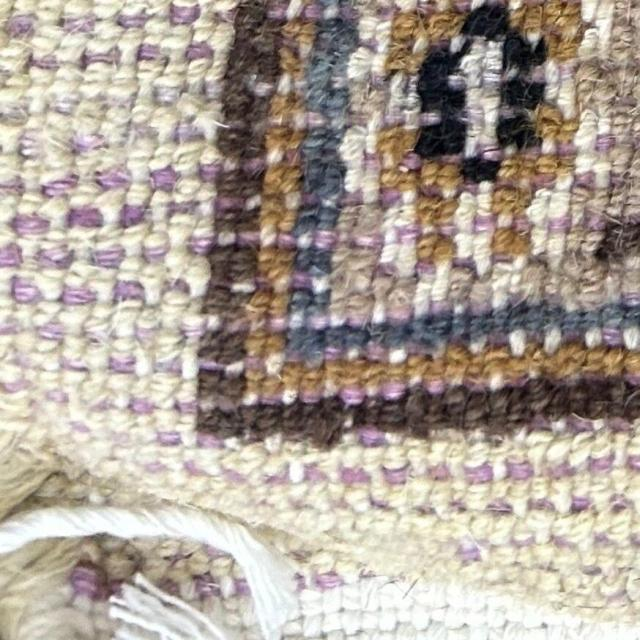Knot: (492, 218, 531, 270), (296, 246, 334, 292), (340, 461, 372, 513), (308, 160, 344, 202), (416, 230, 444, 282), (518, 256, 548, 304), (450, 256, 477, 305), (294, 506, 336, 536), (534, 139, 559, 189), (506, 454, 534, 498), (390, 69, 422, 107), (548, 172, 573, 220), (258, 246, 292, 280), (543, 1, 580, 32), (422, 8, 460, 38), (561, 327, 586, 372), (72, 561, 106, 594), (278, 44, 310, 78), (267, 288, 290, 332), (186, 42, 214, 78), (104, 550, 139, 578), (44, 390, 70, 427), (520, 2, 544, 42), (306, 290, 330, 330), (288, 328, 320, 358), (76, 100, 106, 132), (348, 46, 376, 80), (84, 50, 118, 78), (300, 364, 325, 402), (361, 428, 386, 466), (444, 345, 468, 384), (576, 107, 600, 146), (0, 514, 26, 550), (0, 72, 31, 102), (0, 453, 33, 481), (114, 620, 160, 640), (143, 226, 170, 260), (184, 254, 211, 288), (42, 172, 80, 196), (315, 204, 340, 240), (392, 12, 419, 45), (189, 223, 217, 254), (36, 244, 72, 268), (347, 293, 372, 327), (294, 210, 318, 245), (612, 143, 640, 173), (174, 140, 205, 167), (492, 272, 514, 310), (564, 617, 600, 640), (537, 102, 562, 135), (0, 120, 24, 154), (170, 0, 201, 26), (241, 146, 266, 178), (126, 584, 148, 620), (12, 276, 40, 304), (464, 460, 492, 488), (528, 498, 554, 528), (222, 453, 246, 485), (490, 510, 514, 542), (248, 279, 272, 311), (547, 386, 570, 419), (58, 439, 85, 467), (16, 212, 50, 234), (550, 480, 572, 514), (466, 592, 488, 626), (324, 324, 346, 358), (222, 360, 244, 394), (340, 434, 363, 466), (382, 460, 410, 486), (547, 434, 573, 462), (88, 312, 114, 340), (300, 582, 322, 615), (73, 132, 106, 154), (572, 433, 594, 466), (282, 362, 302, 398), (492, 460, 510, 500), (134, 538, 168, 559), (486, 354, 507, 388), (507, 386, 528, 420), (0, 44, 31, 67), (431, 485, 453, 517), (594, 599, 626, 621), (580, 280, 607, 306), (115, 280, 144, 304), (456, 191, 477, 224), (199, 150, 222, 180), (446, 579, 466, 613), (96, 166, 130, 186), (302, 0, 336, 20), (70, 208, 102, 229), (154, 82, 182, 106), (84, 342, 108, 370), (188, 547, 212, 575), (586, 390, 610, 418), (444, 385, 466, 415), (466, 390, 488, 420), (346, 326, 368, 356), (408, 477, 430, 507), (528, 192, 550, 222), (617, 68, 639, 98), (476, 199, 496, 232), (150, 106, 180, 128), (150, 143, 176, 168), (8, 14, 35, 38), (384, 435, 408, 462), (448, 440, 467, 474), (542, 324, 562, 356), (64, 284, 96, 304), (92, 246, 124, 266), (610, 416, 630, 448), (408, 440, 428, 472), (22, 444, 54, 464), (222, 594, 244, 623), (569, 387, 590, 417), (621, 236, 640, 269), (155, 352, 180, 377), (151, 166, 177, 190), (42, 194, 68, 218), (60, 32, 84, 58), (164, 280, 188, 306), (602, 575, 628, 599), (20, 132, 44, 158), (194, 574, 220, 598), (554, 540, 578, 566), (264, 460, 288, 486), (562, 246, 582, 277), (366, 365, 386, 396), (528, 379, 550, 407), (488, 594, 506, 628), (360, 577, 378, 611), (560, 278, 579, 310), (590, 450, 614, 475), (38, 274, 62, 299), (342, 580, 362, 610), (466, 440, 490, 465), (118, 10, 148, 30), (168, 220, 192, 245), (430, 460, 450, 490), (556, 510, 579, 536), (380, 399, 406, 422), (264, 347, 286, 374), (62, 313, 84, 340), (199, 370, 220, 398), (63, 336, 87, 360), (154, 374, 178, 398), (594, 77, 618, 101), (582, 256, 606, 280), (460, 538, 482, 564), (116, 310, 138, 336), (366, 335, 388, 361), (413, 580, 435, 606), (88, 482, 114, 504), (381, 186, 403, 212), (142, 462, 168, 484), (525, 329, 544, 359), (245, 354, 266, 381), (378, 580, 398, 608), (304, 460, 324, 488), (314, 570, 342, 590), (52, 94, 80, 114), (388, 336, 408, 364), (406, 390, 426, 418), (107, 80, 138, 98), (342, 382, 365, 406), (138, 306, 162, 329), (505, 594, 524, 623), (29, 330, 54, 352), (19, 191, 44, 213), (604, 346, 625, 372), (94, 18, 120, 39), (64, 15, 96, 32), (412, 602, 430, 632), (109, 352, 136, 372), (592, 471, 612, 498), (290, 297, 308, 327), (123, 204, 146, 227), (0, 242, 22, 266), (176, 174, 200, 196), (260, 374, 282, 398), (236, 224, 260, 246), (178, 374, 198, 400), (466, 355, 486, 381), (490, 388, 510, 414), (568, 414, 594, 434), (96, 280, 116, 306), (108, 372, 134, 392), (142, 278, 162, 304), (42, 300, 62, 326), (30, 65, 57, 84), (162, 33, 192, 50), (128, 157, 150, 180), (0, 194, 18, 222), (508, 329, 526, 357), (182, 315, 206, 336), (26, 424, 50, 445), (398, 580, 416, 608), (6, 318, 34, 336), (0, 103, 28, 121), (303, 612, 323, 637), (58, 62, 84, 81), (0, 395, 29, 412), (602, 326, 624, 348), (122, 224, 144, 246), (158, 324, 180, 346), (169, 560, 191, 582), (488, 331, 509, 354), (127, 183, 150, 204), (342, 610, 362, 634), (382, 380, 406, 400), (106, 104, 130, 124), (91, 458, 115, 478), (0, 174, 24, 194), (580, 549, 600, 573), (180, 350, 196, 380), (324, 368, 340, 398), (623, 322, 640, 350), (242, 403, 259, 431), (134, 350, 152, 376), (210, 556, 232, 577), (540, 570, 561, 592), (602, 305, 623, 327), (156, 407, 178, 428), (282, 617, 304, 638), (218, 392, 240, 413), (162, 304, 183, 326), (198, 430, 223, 448), (206, 315, 224, 340), (624, 184, 640, 212), (518, 624, 546, 640), (544, 604, 564, 626), (167, 246, 187, 268), (69, 421, 91, 441), (192, 444, 212, 466), (132, 102, 154, 122), (323, 588, 341, 612), (136, 326, 160, 344), (61, 358, 88, 374), (82, 81, 106, 99), (33, 35, 58, 52), (584, 348, 604, 369), (396, 621, 418, 640), (204, 458, 223, 480), (0, 154, 19, 176), (528, 428, 554, 444), (524, 604, 542, 627), (622, 267, 640, 290), (584, 325, 602, 348), (624, 355, 640, 380), (426, 620, 446, 640), (563, 567, 579, 592), (130, 374, 150, 394), (624, 473, 640, 498), (378, 608, 396, 630), (323, 610, 341, 632), (0, 430, 18, 452), (412, 510, 434, 528), (210, 288, 232, 306), (140, 42, 162, 60), (430, 441, 448, 463), (0, 222, 16, 246), (600, 621, 620, 640), (620, 620, 639, 640), (160, 442, 181, 460), (138, 422, 156, 443), (1, 362, 22, 380), (589, 583, 605, 606), (627, 572, 640, 600), (361, 610, 379, 630), (132, 395, 152, 413), (264, 432, 282, 452), (572, 494, 592, 512), (424, 377, 444, 395), (138, 443, 158, 461), (336, 512, 354, 532), (355, 512, 373, 532), (586, 374, 606, 392), (582, 0, 598, 22), (158, 428, 180, 444), (176, 412, 196, 429), (624, 387, 640, 408), (432, 600, 446, 624), (289, 460, 304, 482), (625, 404, 640, 426), (514, 530, 532, 548), (177, 398, 197, 414), (508, 372, 528, 388), (40, 370, 60, 386), (113, 336, 135, 350), (220, 575, 234, 597), (0, 340, 14, 362), (217, 230, 236, 246), (468, 625, 488, 640), (448, 625, 468, 640), (32, 52, 57, 64), (242, 386, 258, 404), (42, 354, 60, 370), (548, 623, 564, 640), (488, 624, 505, 640), (0, 24, 10, 50), (180, 428, 196, 444), (374, 629, 397, 640), (622, 292, 640, 306), (627, 452, 640, 470), (606, 376, 622, 390), (344, 631, 368, 640), (624, 377, 640, 390), (0, 292, 12, 306)
